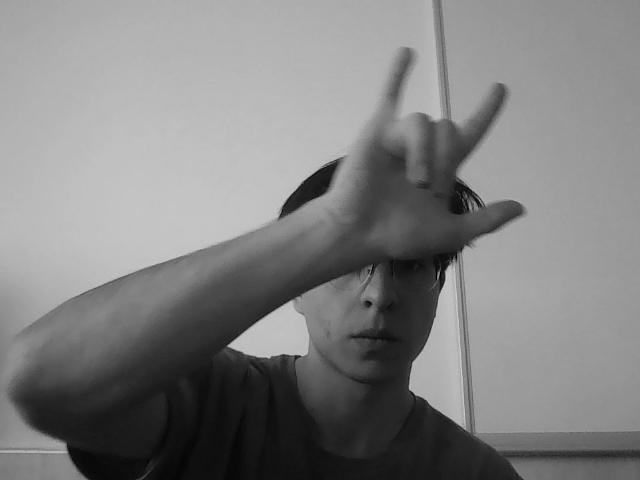I_Love_You: (318, 49, 526, 269)
